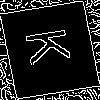K: (24, 25, 82, 66)
